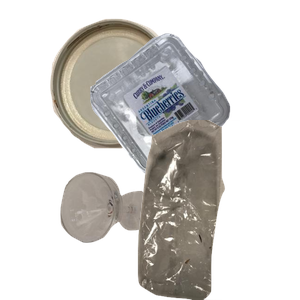glass: (58, 170, 202, 300)
metal: (47, 16, 214, 157)
plastic: (88, 31, 300, 198)
trash: (114, 120, 300, 300)
